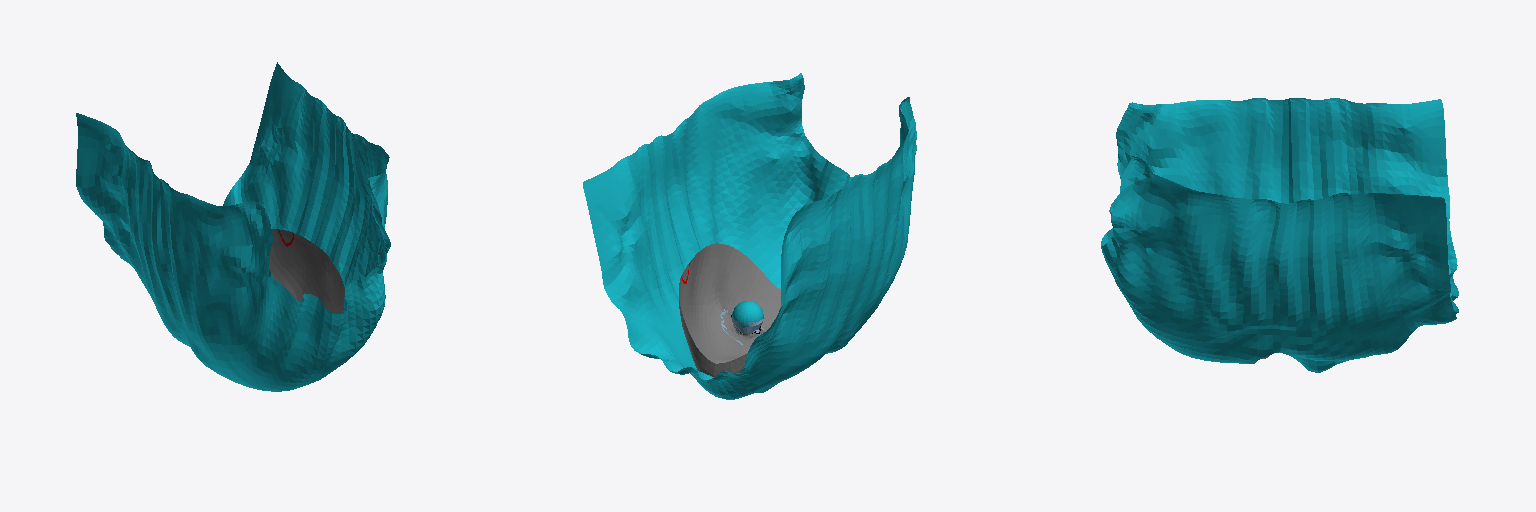
The picture shows the model from 3 angles: view 1: azimuth 30°, elevation 25°; view 2: azimuth 150°, elevation 25°; view 3: azimuth 270°, elevation 25°; orthographic projection.
Visible parts, largest first — view 1: Lens_L, Face_L.001; view 2: Lens_L, Face_L.001, Eye_L; view 3: Lens_L.
Boxes of the visible parts, x1=… form: Lens_L: x1=76, y1=62, x2=390, y2=391; Face_L.001: x1=269, y1=229, x2=344, y2=313; Lens_L: x1=583, y1=73, x2=916, y2=399; Face_L.001: x1=679, y1=243, x2=780, y2=376; Eye_L: x1=732, y1=301, x2=763, y2=327; Lens_L: x1=1101, y1=98, x2=1458, y2=372.
Size of the model in its own units: 0.196 by 0.2198 by 0.2951.
Materials: 6 (1 with a texture image).